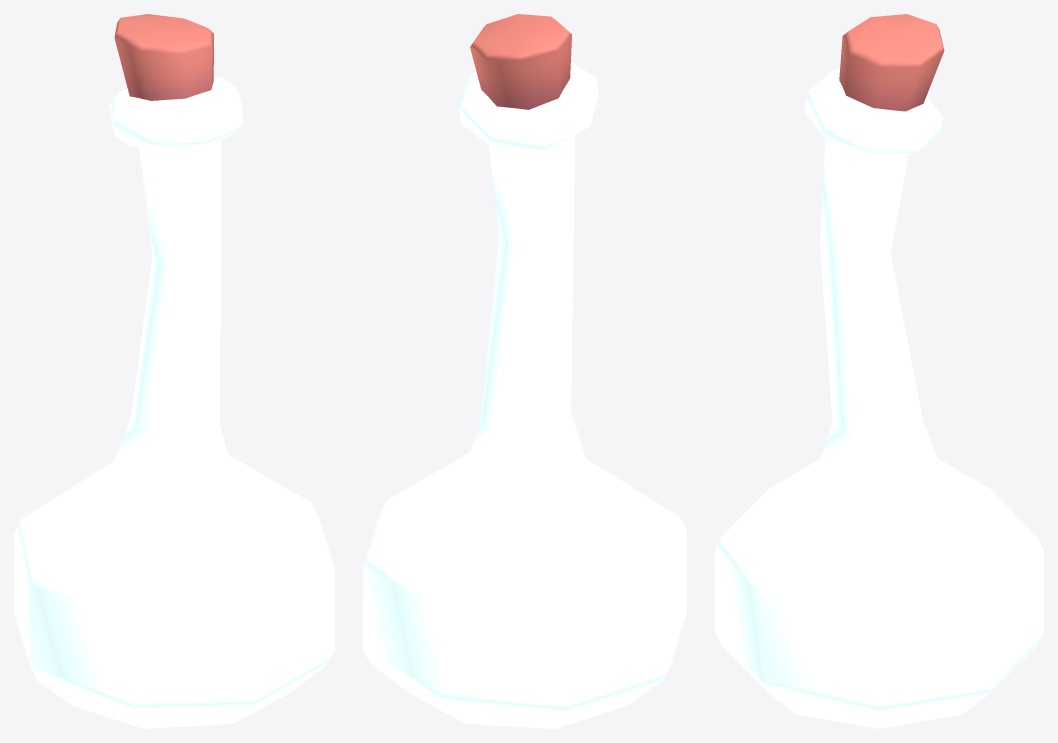
File: potion.glb
3 renders of one model, left to right at view 1: azimuth 30°, elevation 25°; view 2: azimuth 150°, elevation 25°; view 3: azimuth 270°, elevation 25°, orthographic.
Parts seen in each view (by area): view 1: Potion; view 2: Potion; view 3: Potion.
Boxes of the visible parts, <box> form: Potion: <box>14,14,334,728</box>; Potion: <box>363,14,686,728</box>; Potion: <box>715,14,1043,728</box>.
Size of the model in its own units: 1.01 by 2.18 by 1.01.
2 materials, 2 textured.
